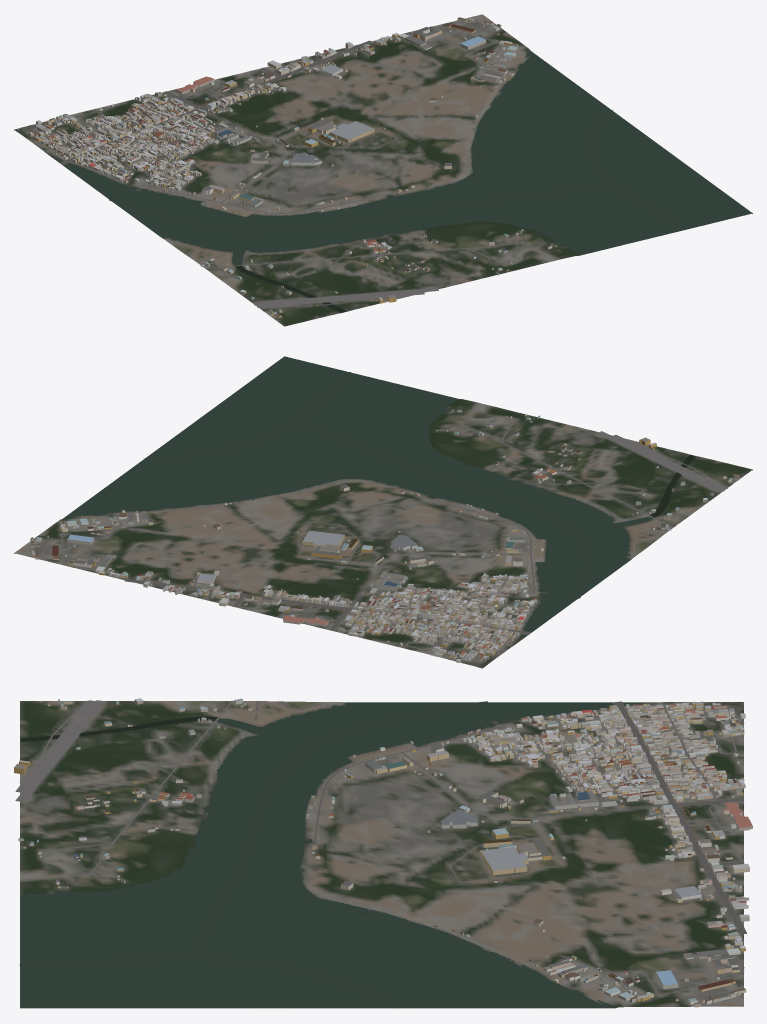
3 renders of one model, top to bottom at view 1: azimuth 30°, elevation 25°; view 2: azimuth 150°, elevation 25°; view 3: azimuth 270°, elevation 25°, orthographic. The views are drawn at different scales.
Visible parts, largest first — view 1: ground, water, buildings, roads; view 2: ground, water, buildings, roads; view 3: ground, water, buildings, roads.
Boxes of the visible parts, box(x1,y1,x2,y2) form: ground: box(14, 14, 752, 326); water: box(15, 51, 751, 312); buildings: box(28, 17, 556, 317); roads: box(32, 20, 559, 308); ground: box(14, 357, 752, 668); water: box(63, 356, 694, 667); buildings: box(30, 409, 738, 662); roads: box(39, 402, 727, 661); ground: box(20, 701, 743, 1008); water: box(19, 701, 743, 1008); buildings: box(14, 698, 752, 1007); roads: box(15, 700, 746, 995).
Bounding box in the file's own units: 1407 × 19.16 × 1430.
